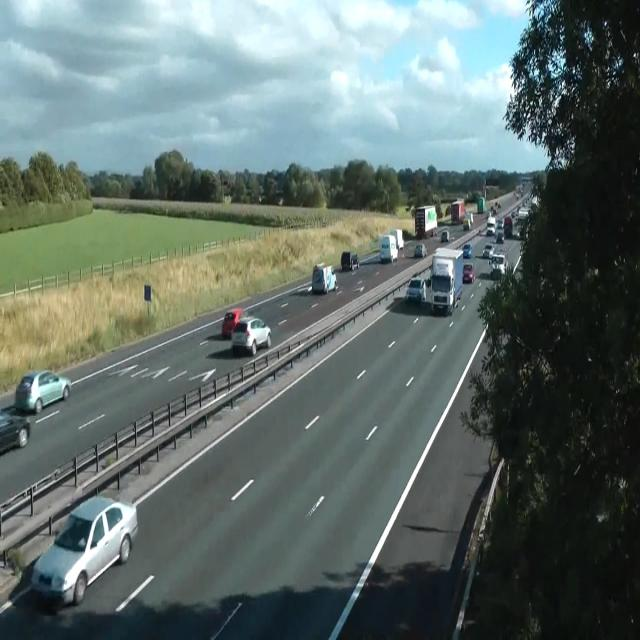bus: (15, 370, 71, 413), (231, 316, 271, 356), (0, 409, 30, 454), (222, 307, 244, 338), (405, 277, 425, 303), (462, 262, 475, 283), (414, 242, 426, 258), (482, 242, 494, 258), (462, 242, 472, 258), (350, 253, 359, 270), (440, 229, 450, 242), (488, 247, 495, 262), (496, 230, 504, 243), (462, 219, 470, 230)
jeep: (30, 494, 138, 606), (428, 272, 454, 315), (489, 252, 506, 278), (341, 251, 359, 270)
minibus: (428, 247, 464, 316), (311, 263, 337, 294), (414, 206, 438, 238), (380, 234, 398, 263), (451, 199, 465, 224), (391, 228, 404, 250), (463, 212, 473, 230), (477, 196, 485, 214)
